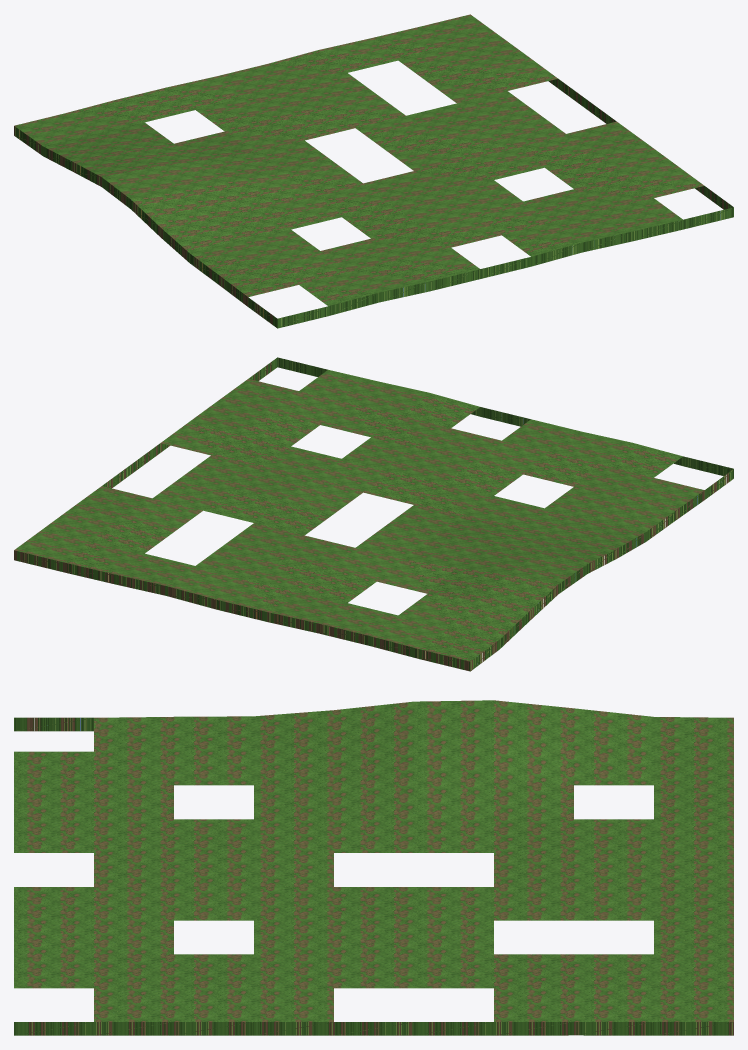
File: rv_terrain_30_lod2.gltf
3 views of the same model, one above another, from view 1: azimuth 30°, elevation 25°; view 2: azimuth 150°, elevation 25°; view 3: azimuth 270°, elevation 25° (orthographic). The views are drawn at different scales.
Parts seen in each view (by area): view 1: RV_Terrain_30_lod2; view 2: RV_Terrain_30_lod2; view 3: RV_Terrain_30_lod2.
Part boxes in pixels (x1=…): RV_Terrain_30_lod2: x1=14, y1=14, x2=733, y2=328; RV_Terrain_30_lod2: x1=14, y1=357, x2=733, y2=671; RV_Terrain_30_lod2: x1=14, y1=700, x2=733, y2=1035.
Size of the model in its own units: 72 by 3.43 by 72.
Materials: 2 (1 with a texture image).
